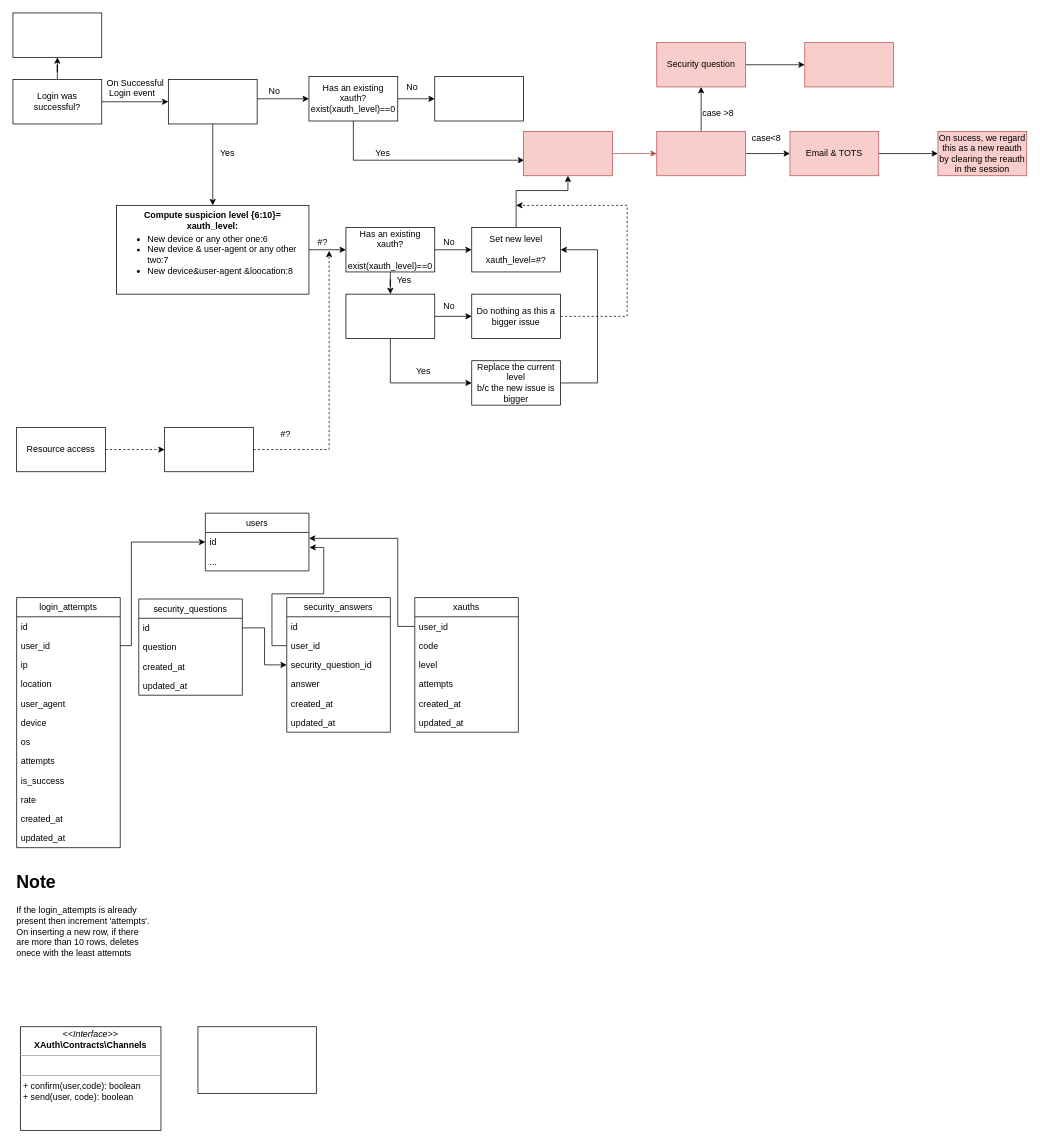
This 1040x1143 diagram has some shape labels left out. The shapes that lost their labels are listed below. From the top down, each one's centre as x and y in pixels, then its label:
(57,34): Log login event
(849,64): On success we reduce xauth_level = 8 to activate the next channel
(212,101): Is login from a unique device/or user agent and/or location?
(479,98): Return false
(567,153): XAuth process
(701,153): Decide the process channel switch(#?)
(390,316): Is the new xauth > than #?
(208,449): Set an Arbitratry precaution level {1:5} xauth_level=#?
(256,1059): XAuth\XAuth + field: Type + __construct(): void
